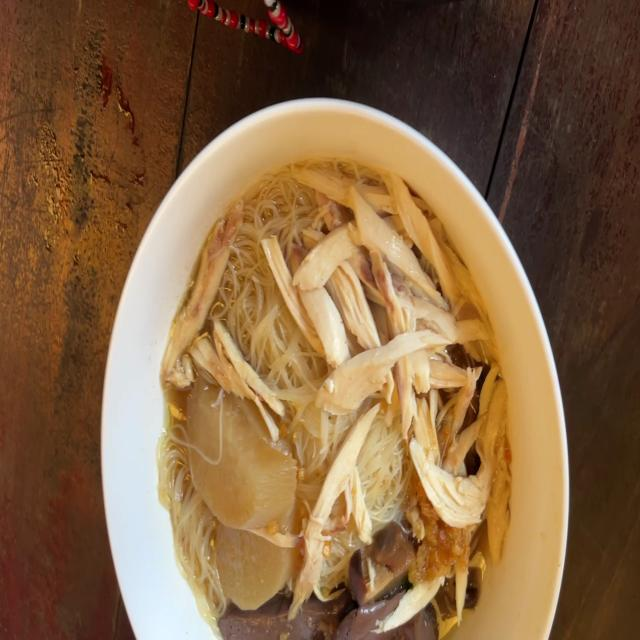noodle: (224, 603, 443, 640)
